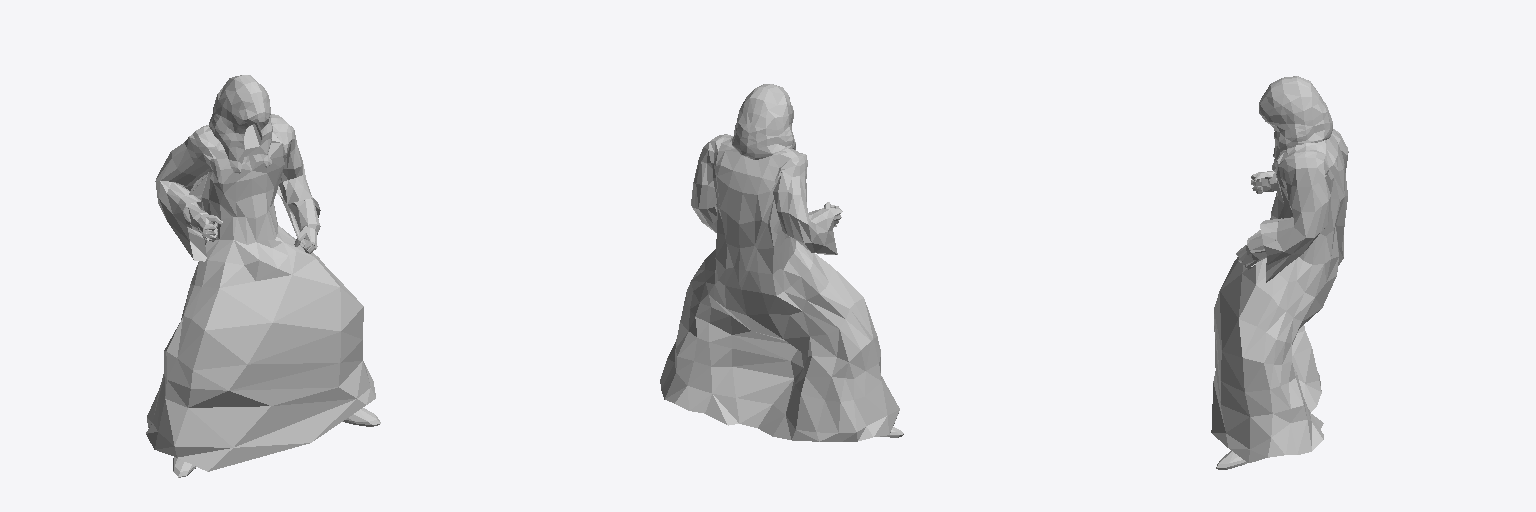
The model's file is Fellbeast_Animate_Flying_15.obj.
The picture shows the model from 3 angles: view 1: azimuth 30°, elevation 25°; view 2: azimuth 150°, elevation 25°; view 3: azimuth 270°, elevation 25°; orthographic projection.
Parts seen in each view (by area): view 1: dm_nazgulrobe_ride_241108; view 2: dm_nazgulrobe_ride_241108; view 3: dm_nazgulrobe_ride_241108.
Boxes of the visible parts, x1=… form: dm_nazgulrobe_ride_241108: x1=146, y1=75, x2=380, y2=477; dm_nazgulrobe_ride_241108: x1=660, y1=84, x2=903, y2=441; dm_nazgulrobe_ride_241108: x1=1211, y1=76, x2=1348, y2=469.
Size of the model in its own units: 0.4418 by 0.6671 by 0.2358.